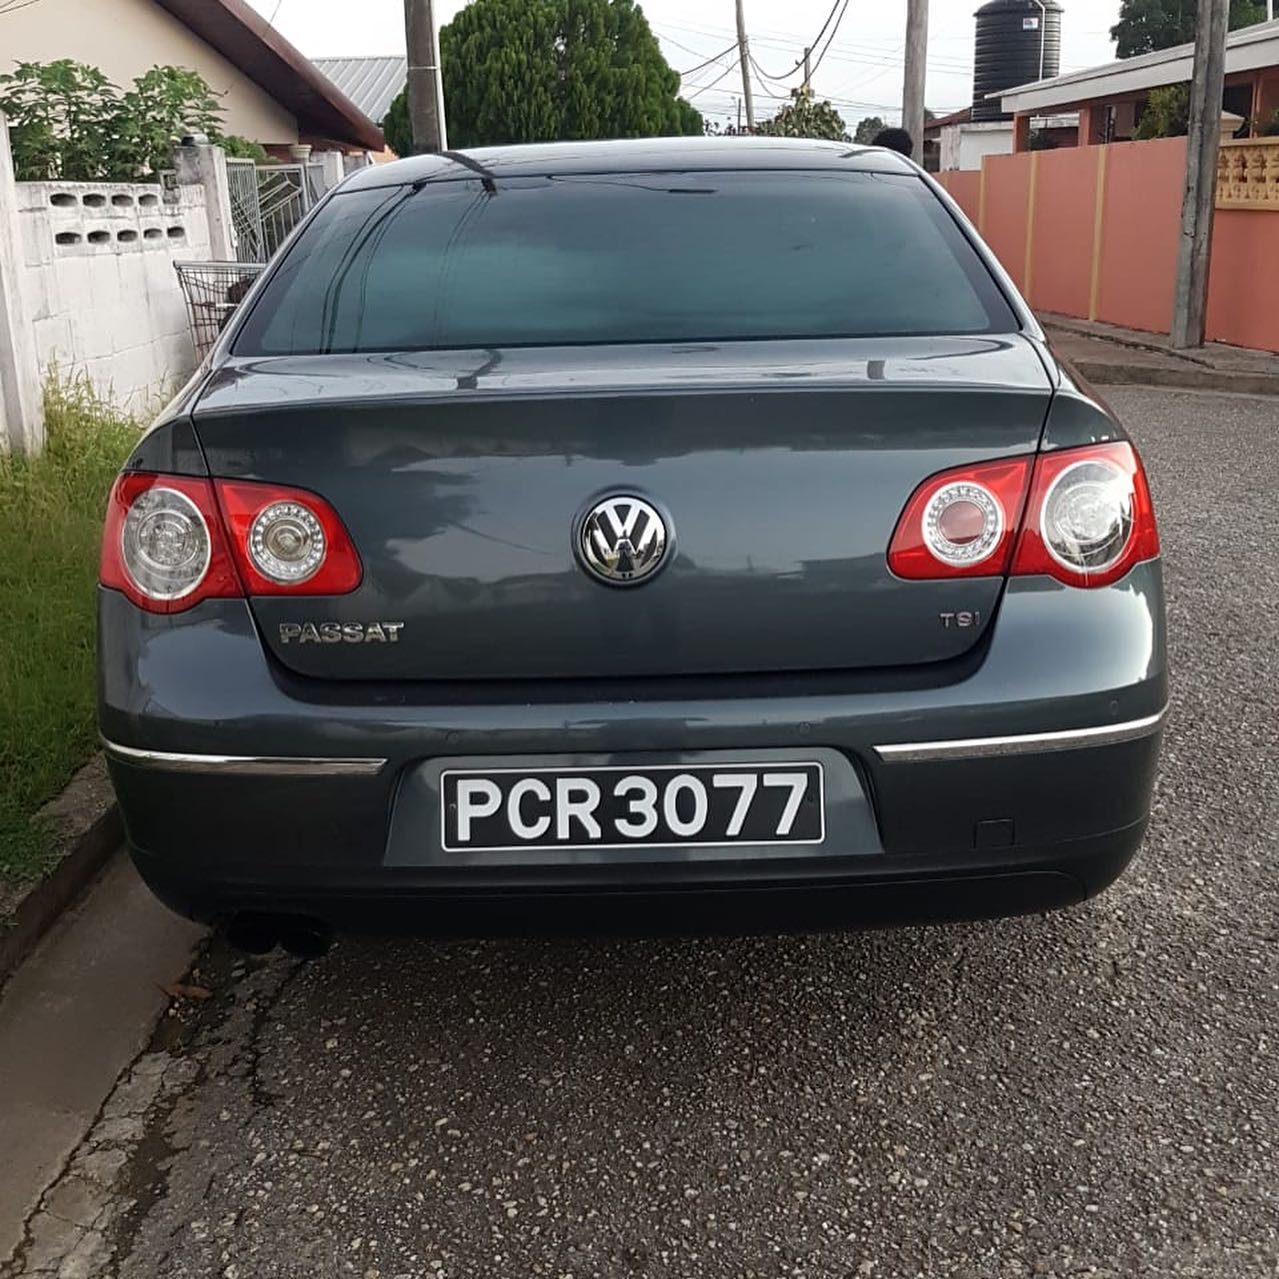License-Plate: (442, 772, 822, 849)
